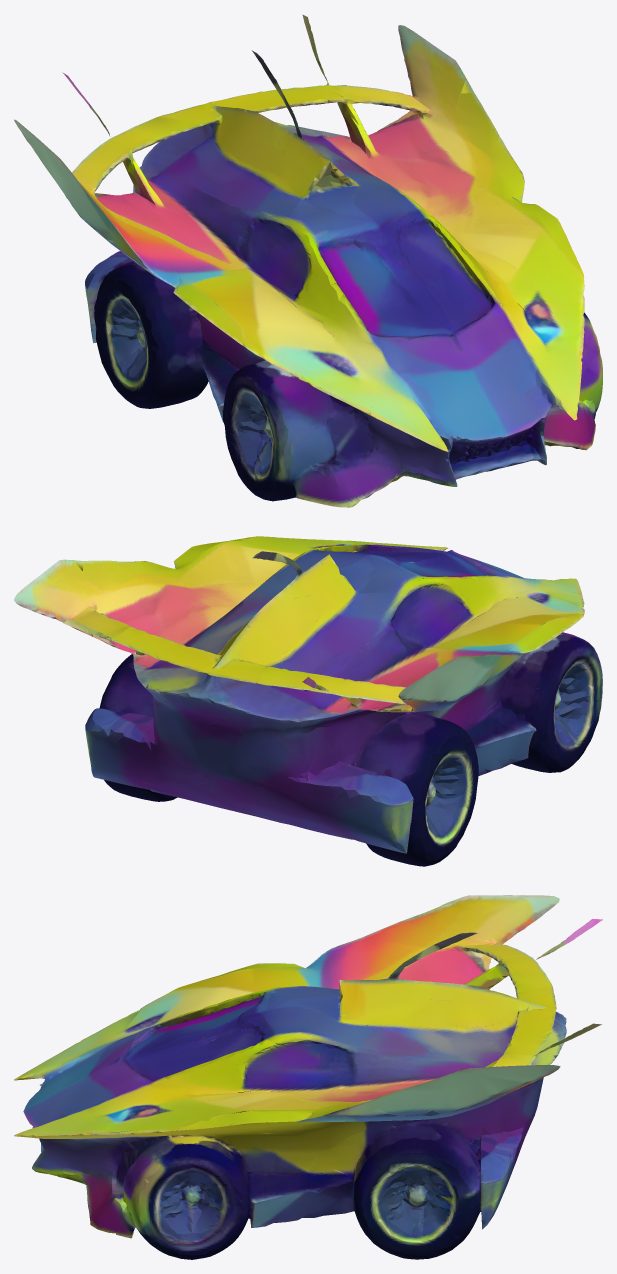
File: timeattack1.glb
The picture shows the model from 3 angles, top to bottom: view 1: azimuth 30°, elevation 25°; view 2: azimuth 150°, elevation 25°; view 3: azimuth 270°, elevation 25°; orthographic projection. The views are drawn at different scales.
Parts seen in each view (by area): view 1: body, wheel_front_L, wheel_rear_L, wheel_front_R; view 2: body, wheel_rear_L, wheel_front_L, wheel_rear_R; view 3: body, wheel_front_R, wheel_rear_R.
Part boxes in pixels (left/top/right/bottom): body: left=14, top=15, right=584, bottom=504; wheel_front_L: left=197, top=346, right=396, bottom=507; wheel_rear_L: left=85, top=251, right=219, bottom=408; wheel_front_R: left=518, top=304, right=602, bottom=450; body: left=14, top=536, right=584, bottom=852; wheel_rear_L: left=309, top=712, right=481, bottom=866; wheel_front_L: left=465, top=592, right=602, bottom=776; wheel_rear_R: left=85, top=653, right=223, bottom=801; body: left=14, top=895, right=602, bottom=1216; wheel_front_R: left=78, top=1132, right=354, bottom=1259; wheel_rear_R: left=309, top=1121, right=520, bottom=1259.
Size of the model in its own units: 2.78 by 1.96 by 4.
Materials: 1 (1 with a texture image).
